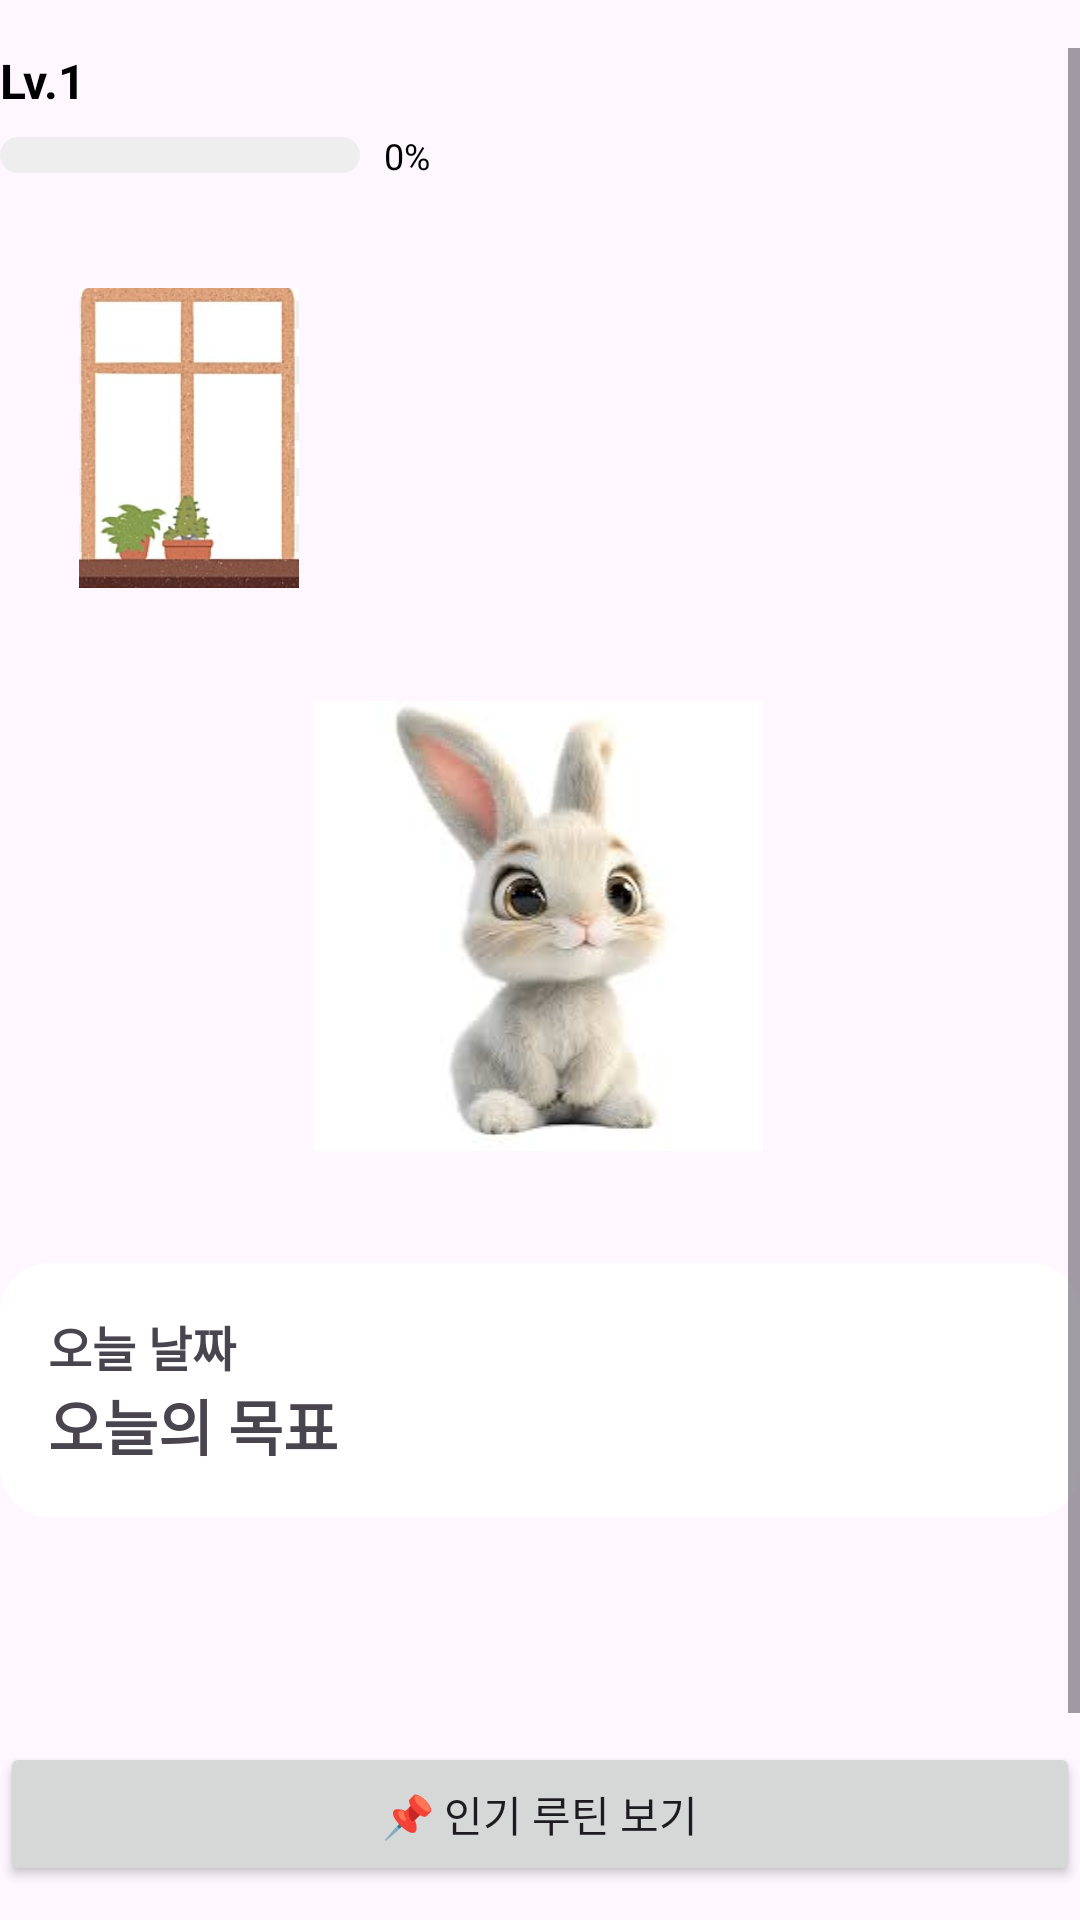

Icons on this 1080px×1920px Android screen, each with the point to tap as (x,y):
창문: (189,438)
